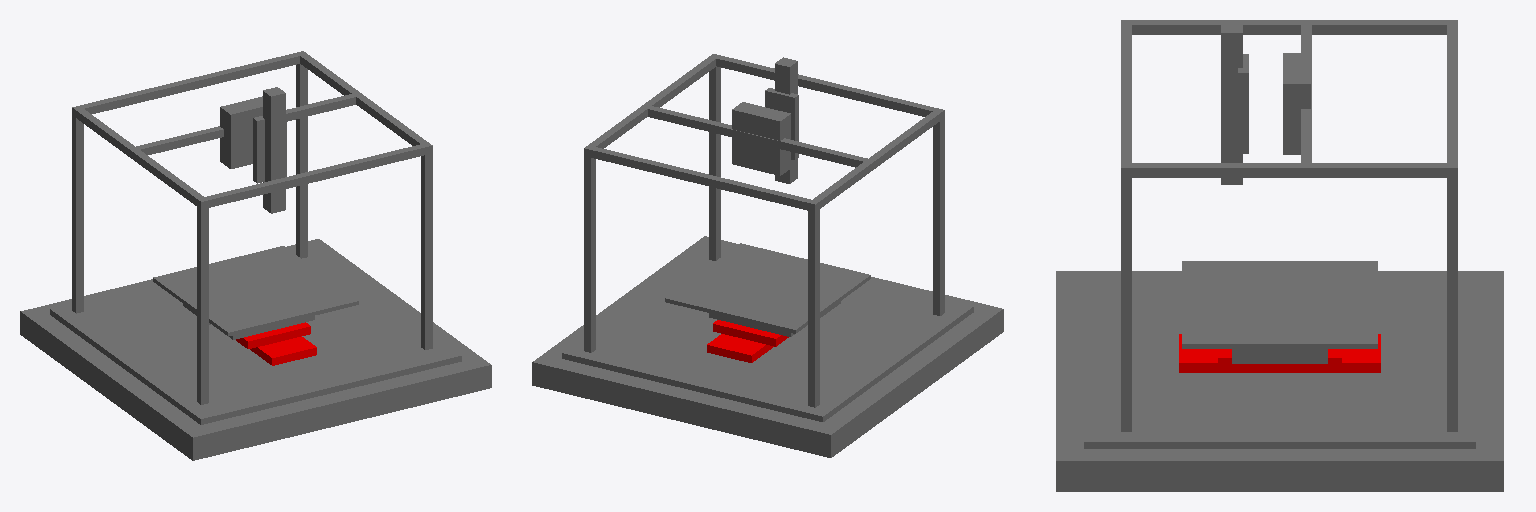
robot.urdf — printer_v1:
<?xml version="1.0" ?>
<!-- =================================================================================== -->
<!-- |    This document was autogenerated by xacro from demo_cartesian.urdf.xacro      | -->
<!-- |    EDITING THIS FILE BY HAND IS NOT RECOMMENDED                                 | -->
<!-- =================================================================================== -->
<!-- Author:  [author], [email redacted] -->
<!-- Date, place:  November 2023, Butikkon, CH -->
<robot name="printer_v1">
  <!-- Define properties -->
  <!-- <xacro:property name="pi" value="3.1415926535" />  checked, does not need to redefine in humble-->
  <!-- checked -->
  <!-- checked -->
  <!-- approx -->
  <!-- approx -->
  <!-- approx -->
  <!-- approx -->
  <!-- approx -->
  <!-- approx -->
  <!-- approx -->
  <!-- approx -->
  <!-- approx -->
  <!-- approx -->
  <!-- Links-->
  <link name="granite">
    <pose>0 0 0 0 0 0</pose>
    <visual>
      <origin xyz="0 0 0"/>
      <geometry>
        <box size="0.4 0.4 0.03"/>
      </geometry>
      <material name="grey">
        <color rgba="0.5 0.5 0.5 1"/>
      </material>
    </visual>
    <collision>
      <origin xyz="0 0 0"/>
      <geometry>
        <box size="0.4 0.4 0.03"/>
      </geometry>
    </collision>
    <inertial>
      <mass value="0.050"/>
      <origin xyz="0 0 0"/>
      <inertia ixx="0.01" ixy="0.0" ixz="0.0" iyy="0.01" iyz="0.0" izz="0.01"/>
    </inertial>
  </link>
  <link name="base">
    <visual>
      <geometry>
        <box size="0.35 0.35 0.015"/>
      </geometry>
      <material name="grey">
        <color rgba="0.5 0.5 0.5 1"/>
      </material>
    </visual>
    <collision>
      <geometry>
        <box size="0.35 0.35 0.015"/>
      </geometry>
    </collision>
    <inertial>
      <mass value="0.050"/>
      <origin xyz="0 0 0"/>
      <inertia ixx="0.01" ixy="0.0" ixz="0.0" iyy="0.01" iyz="0.0" izz="0.01"/>
    </inertial>
  </link>
  <link name="frame">
    <visual>
      <!-- <origin xyz="0 0 ${frame_size_z/2}" /> -->
      <origin rpy="0 0 0" xyz="-0.155 -0.2090 0"/>
      <geometry>
        <!-- <box size="${frame_size_x} ${frame_size_y} ${frame_size_z}"/> -->
        <mesh filename="package://kr_rviz_demo/meshes/frame.stl"/>
        <scale>0.1 0.1 0.1</scale>
      </geometry>
      <material name="grey">
        <color rgba="0.5 0.5 0.5 1"/>
      </material>
    </visual>
    <collision>
      <!-- <origin xyz="0 0 ${frame_size_z/2}" /> -->
      <origin rpy="0 0 0" xyz="-0.155 -0.2090 0"/>
      <geometry>
        <!-- <box size="${frame_size_x} ${frame_size_y} ${frame_size_z}" /> -->
        <mesh filename="package://kr_rviz_demo/meshes/frame.stl"/>
        <scale>0.1 0.1 0.1</scale>
      </geometry>
    </collision>
    <inertial>
      <mass value="2.0"/>
      <origin xyz="0 0 0"/>
      <inertia ixx="0.01" ixy="0.0" ixz="0.0" iyy="0.01" iyz="0.0" izz="0.01"/>
    </inertial>
  </link>
  <link name="base_y_axis">
    <visual>
      <origin xyz="0 0 0.005"/>
      <geometry>
        <box size="0.06 0.18 0.01"/>
      </geometry>
      <material name="grey">
        <color rgba="1 0 0 1"/>
      </material>
    </visual>
    <collision>
      <origin xyz="0 0 0.005"/>
      <geometry>
        <box size="0.06 0.18 0.01"/>
      </geometry>
    </collision>
    <inertial>
      <mass value="2.0"/>
      <origin xyz="0 0 0"/>
      <inertia ixx="0.01" ixy="0.0" ixz="0.0" iyy="0.01" iyz="0.0" izz="0.01"/>
    </inertial>
  </link>
  <link name="carriage_y_axis">
    <visual>
      <origin xyz="0 0 0.005"/>
      <geometry>
        <box size="0.085 0.11 0.01"/>
      </geometry>
      <material name="grey">
        <color rgba="1 0 0 1"/>
      </material>
    </visual>
    <collision>
      <origin xyz="0 0 0.005"/>
      <geometry>
        <box size="0.085 0.11 0.01"/>
      </geometry>
    </collision>
    <inertial>
      <mass value="2.0"/>
      <origin xyz="0 0 0"/>
      <inertia ixx="0.01" ixy="0.0" ixz="0.0" iyy="0.01" iyz="0.0" izz="0.01"/>
    </inertial>
  </link>
  <link name="carriage_x_axis">
    <visual>
      <origin xyz="0 0 0.01"/>
      <geometry>
        <box size="0.11 0.085 0.02"/>
      </geometry>
      <material name="grey">
        <color rgba="0.5 0.5 0.5 1"/>
      </material>
    </visual>
    <collision>
      <origin xyz="0 0 0.01"/>
      <geometry>
        <box size="0.11 0.085 0.02"/>
      </geometry>
    </collision>
    <inertial>
      <mass value="2.0"/>
      <origin xyz="0 0 0"/>
      <inertia ixx="0.01" ixy="0.0" ixz="0.0" iyy="0.01" iyz="0.0" izz="0.01"/>
    </inertial>
  </link>
  <link name="base_x_axis">
    <visual>
      <origin xyz="0 0 0.005"/>
      <geometry>
        <box size="0.16 0.06 0.01"/>
      </geometry>
      <material name="grey">
        <color rgba="0.5 0.5 0.5 1"/>
      </material>
    </visual>
    <collision>
      <origin xyz="0 0 0.005"/>
      <geometry>
        <box size="0.16 0.06 0.01"/>
      </geometry>
    </collision>
    <inertial>
      <mass value="2.0"/>
      <origin xyz="0 0 0"/>
      <inertia ixx="0.01" ixy="0.0" ixz="0.0" iyy="0.01" iyz="0.0" izz="0.01"/>
    </inertial>
  </link>
  <link name="bed">
    <visual>
      <origin xyz="0 0 0.0025"/>
      <geometry>
        <box size="0.175 0.175 0.005"/>
      </geometry>
      <material name="blue">
        <color rgba="0.5 0.5 0.5 1"/>
      </material>
    </visual>
    <collision>
      <origin xyz="0 0 0.0025"/>
      <geometry>
        <box size="0.175 0.175 0.005"/>
      </geometry>
    </collision>
    <inertial>
      <mass value="2.0"/>
      <origin xyz="0 0 0"/>
      <inertia ixx="0.01" ixy="0.0" ixz="0.0" iyy="0.01" iyz="0.0" izz="0.01"/>
    </inertial>
  </link>
  <link name="carriage_z_axis">
    <visual>
      <origin xyz="0 -0.0125 0"/>
      <geometry>
        <box size="0.065 0.025 0.07"/>
      </geometry>
      <material name="grey">
        <color rgba="0.5 0.5 0.5 1"/>
      </material>
    </visual>
    <collision>
      <origin xyz="0 -0.0125 0"/>
      <geometry>
        <box size="0.065 0.025 0.07"/>
      </geometry>
    </collision>
    <inertial>
      <mass value="2.0"/>
      <origin xyz="0 0 0"/>
      <inertia ixx="0.01" ixy="0.0" ixz="0.0" iyy="0.01" iyz="0.0" izz="0.01"/>
    </inertial>
  </link>
  <link name="base_z_axis">
    <visual>
      <origin xyz="0 -0.01 0"/>
      <geometry>
        <box size="0.04 -0.01 0.08"/>
      </geometry>
      <material name="grey">
        <color rgba="0.5 0.5 0.5 1"/>
      </material>
    </visual>
    <collision>
      <origin xyz="0 -0.01 0"/>
      <geometry>
        <box size="0.04 -0.01 0.08"/>
      </geometry>
    </collision>
    <inertial>
      <mass value="2.0"/>
      <origin xyz="0 0 0"/>
      <inertia ixx="0.01" ixy="0.0" ixz="0.0" iyy="0.01" iyz="0.0" izz="0.01"/>
    </inertial>
  </link>
  <link name="printhead">
    <visual>
      <origin rpy="0 0 0" xyz="0 0 0"/>
      <geometry>
        <box size="0.02 0.02 0.15"/>
      </geometry>
      <material name="blue">
        <color rgba="0.5 0.5 0.5 1"/>
      </material>
    </visual>
    <collision>
      <origin xyz="0 -0.01 0"/>
      <geometry>
        <box size="0.02 0.02 0.15"/>
      </geometry>
    </collision>
    <inertial>
      <mass value="2.0"/>
      <origin xyz="0 0 0"/>
      <inertia ixx="0.01" ixy="0.0" ixz="0.0" iyy="0.01" iyz="0.0" izz="0.01"/>
    </inertial>
  </link>
  <!--
-->
  <!-- Joints -->
  <joint name="granite_to_base" type="fixed">
    <origin rpy="0 0 0" xyz="0.0 0.0 0.015"/>
    <parent link="granite"/>
    <child link="base"/>
  </joint>
  <joint name="base_to_frame" type="fixed">
    <origin rpy="0 0 0" xyz="0.0 0.06737499999999999 0.0075"/>
    <!-- approx -->
    <parent link="base"/>
    <child link="frame"/>
  </joint>
  <joint name="base_to_base_y_axis" type="fixed">
    <origin rpy="0 0 0" xyz="0.0 0.0 0.0075"/>
    <parent link="base"/>
    <child link="base_y_axis"/>
  </joint>
  <joint name="base_y_axis_to_carriage_y_axis" type="prismatic">
    <origin rpy="0 0 0" xyz="0.0 0.0 0.01"/>
    <parent link="base_y_axis"/>
    <child link="carriage_y_axis"/>
    <axis xyz="0 1 0"/>
    <limit effort="10" lower="-0.01" upper="0.01" velocity="1"/>
  </joint>
  <joint name="carriage_y_axis_to_carriage_x_axis" type="fixed">
    <origin rpy="0 0 0" xyz="0.0 0.0 0.01"/>
    <parent link="carriage_y_axis"/>
    <child link="carriage_x_axis"/>
  </joint>
  <joint name="carriage_x_axis_to_base_x_axis" type="prismatic">
    <origin rpy="0 0 0" xyz="0.0 0.0 0.02"/>
    <parent link="carriage_x_axis"/>
    <child link="base_x_axis"/>
    <axis xyz="1 0 0"/>
    <limit effort="10" lower="-0.01" upper="0.01" velocity="1"/>
  </joint>
  <joint name="base_x_axis_to_bed" type="fixed">
    <origin rpy="0 0 0" xyz="0.0 0.0 0.01"/>
    <parent link="base_x_axis"/>
    <child link="bed"/>
  </joint>
  <joint name="frame_to_carriage_z_axis" type="fixed">
    <origin rpy="0 0 0" xyz="0.0 -0.04000000000000001 0.25"/>
    <parent link="frame"/>
    <child link="carriage_z_axis"/>
  </joint>
  <joint name="carriage_z_axis_to_base_z_axis" type="prismatic">
    <origin rpy="0 0 0" xyz="0.0 -0.05 0"/>
    <parent link="carriage_z_axis"/>
    <child link="base_z_axis"/>
    <axis xyz="0 0 1"/>
    <limit effort="100" lower="-0.01" upper="0.01" velocity="0.1"/>
  </joint>
  <joint name="base_z_axis_printhead" type="fixed">
    <origin rpy="0 0 0" xyz="0.0 -0.02 0"/>
    <parent link="base_z_axis"/>
    <child link="printhead"/>
  </joint>
  <!--
-->
</robot>

--- Render facts (derived) ---
Views: 3 orthographic renders of the robot side by side, from view 1: azimuth 30°, elevation 25°; view 2: azimuth 150°, elevation 25°; view 3: azimuth 270°, elevation 25°.
Robot: printer_v1 — 11 links, 10 joints (3 prismatic, 7 fixed); root link granite; default pose: all joints at 0.
Visible links, largest first — view 1: base, frame, granite, bed, printhead, carriage_z_axis, base_y_axis, carriage_y_axis, base_z_axis; view 2: base, frame, granite, bed, carriage_z_axis, base_y_axis, printhead, base_z_axis, carriage_y_axis; view 3: base, granite, frame, bed, printhead, base_y_axis, carriage_z_axis, base_z_axis, carriage_x_axis, carriage_y_axis.
Boxes of the visible links, x1,y1,x2,y2 form: base: (50, 245, 461, 424); frame: (72, 51, 432, 404); granite: (20, 239, 491, 460); bed: (153, 246, 358, 336); printhead: (263, 87, 285, 213); carriage_z_axis: (220, 96, 262, 168); base_y_axis: (250, 336, 316, 365); carriage_y_axis: (236, 322, 310, 348); base_z_axis: (253, 113, 286, 183); base: (562, 245, 973, 421); frame: (584, 54, 944, 407); granite: (532, 236, 1003, 457); bed: (665, 243, 870, 333); carriage_z_axis: (732, 102, 790, 175); base_y_axis: (707, 334, 773, 362); printhead: (775, 57, 797, 183); base_z_axis: (765, 88, 798, 159); carriage_y_axis: (713, 320, 788, 346); base: (1084, 275, 1475, 448); granite: (1056, 271, 1503, 491); frame: (1121, 20, 1457, 431); bed: (1182, 261, 1377, 348); printhead: (1221, 23, 1242, 184); base_y_axis: (1179, 334, 1380, 372); carriage_z_axis: (1283, 53, 1310, 154); base_z_axis: (1238, 54, 1248, 153); carriage_x_axis: (1232, 349, 1327, 363); carriage_y_axis: (1218, 349, 1341, 367).
Bounding box of the posed robot: 0.4 × 0.4 × 0.3625 m (x, y, z).
Meshes: 1 distinct files referenced, 1 mesh visuals loaded (1 binary STL).
